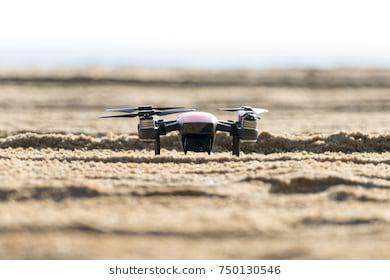drone: (88, 95, 275, 167)
